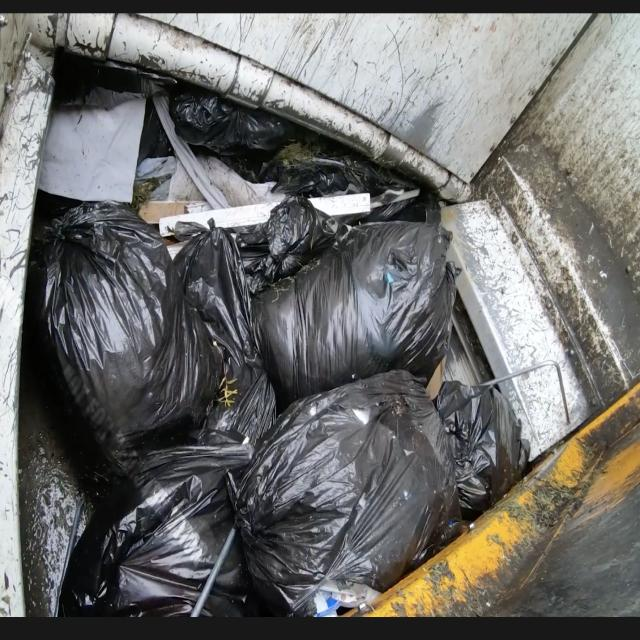bag: (23, 167, 283, 469), (229, 411, 499, 640), (260, 198, 464, 398), (51, 435, 227, 640)
